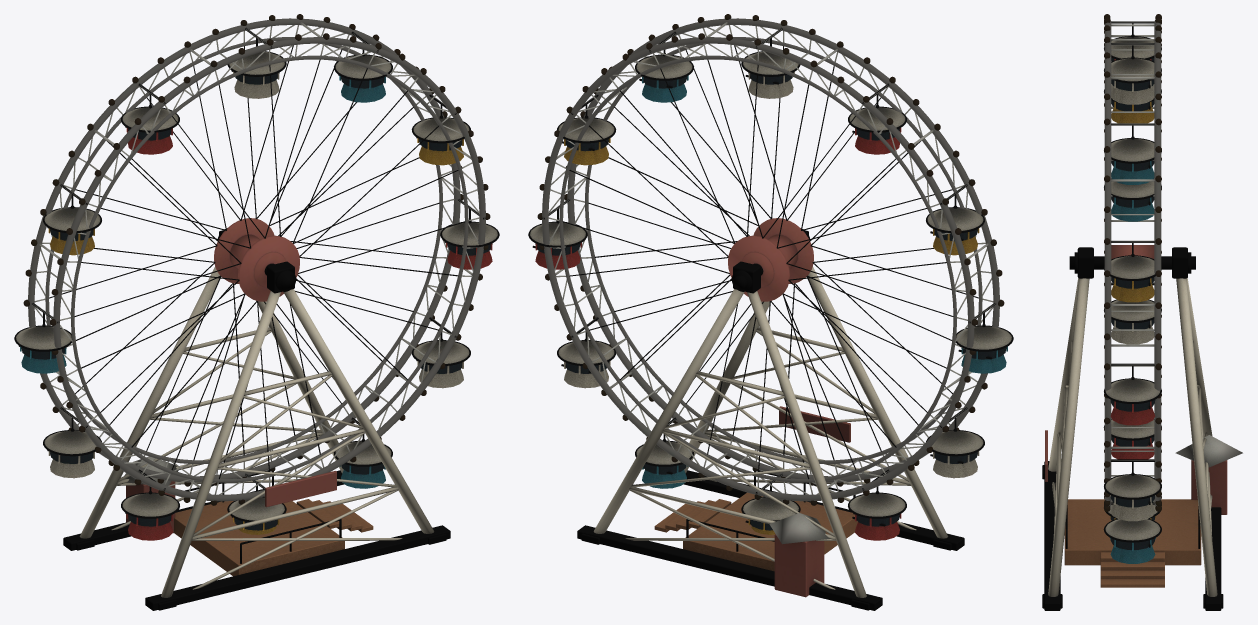
File: wheel-realistic.glb
The picture shows the model from 3 angles, left to right: view 1: azimuth 30°, elevation 25°; view 2: azimuth 150°, elevation 25°; view 3: azimuth 270°, elevation 25°; orthographic projection.
Visible parts, largest first — view 1: Wheel_Rotor, Wheel_Frame, Cab8, Cab7, Cab2, Cab6, Cab1, Cab3, Cab0, Cab5, Cab4, Cab11 (+2 smaller); view 2: Wheel_Rotor, Wheel_Frame, Cab8, Cab7, Cab2, Cab6, Cab1, Cab3, Cab5, Cab0, Cab4, Cab11 (+2 smaller); view 3: Wheel_Frame, Wheel_Rotor, Cab11, Cab0, Cab1, Cab2, Cab10, Cab3, Cab7, Cab6, Cab8, Cab4 (+1 smaller).
Boxes of the visible parts, box(x1,y1,x2,y2) form: Wheel_Rotor: box(23, 14, 490, 505); Wheel_Frame: box(63, 229, 450, 610); Cab8: box(121, 469, 179, 540); Cab7: box(43, 407, 101, 478); Cab2: box(334, 31, 392, 102); Cab6: box(14, 303, 71, 373); Cab1: box(411, 94, 470, 165); Cab3: box(227, 27, 286, 98); Cab0: box(440, 199, 499, 269); Cab5: box(43, 184, 101, 255); Cab4: box(121, 83, 179, 154); Cab11: box(412, 317, 470, 388); Wheel_Rotor: box(537, 14, 1004, 505); Wheel_Frame: box(577, 229, 964, 610); Cab8: box(848, 469, 906, 540); Cab7: box(926, 407, 984, 478); Cab2: box(635, 31, 693, 102); Cab6: box(956, 303, 1013, 373); Cab1: box(557, 94, 616, 165); Cab3: box(741, 27, 800, 98); Cab5: box(926, 184, 984, 255); Cab0: box(528, 199, 587, 269); Cab4: box(848, 83, 906, 154); Cab11: box(557, 317, 615, 388); Wheel_Frame: box(1042, 247, 1242, 610); Wheel_Rotor: box(1104, 14, 1161, 511); Cab11: box(1104, 459, 1161, 521); Cab0: box(1104, 363, 1161, 425); Cab1: box(1104, 241, 1161, 302); Cab2: box(1104, 123, 1161, 184); Cab10: box(1103, 502, 1161, 563); Cab3: box(1104, 43, 1161, 104); Cab7: box(1104, 282, 1161, 344); Cab6: box(1104, 178, 1161, 221); Cab8: box(1103, 419, 1161, 459); Cab4: box(1104, 21, 1161, 61).
Bounding box in the file's own units: 13.45 × 13.85 × 5.
6 materials, 6 textured.
